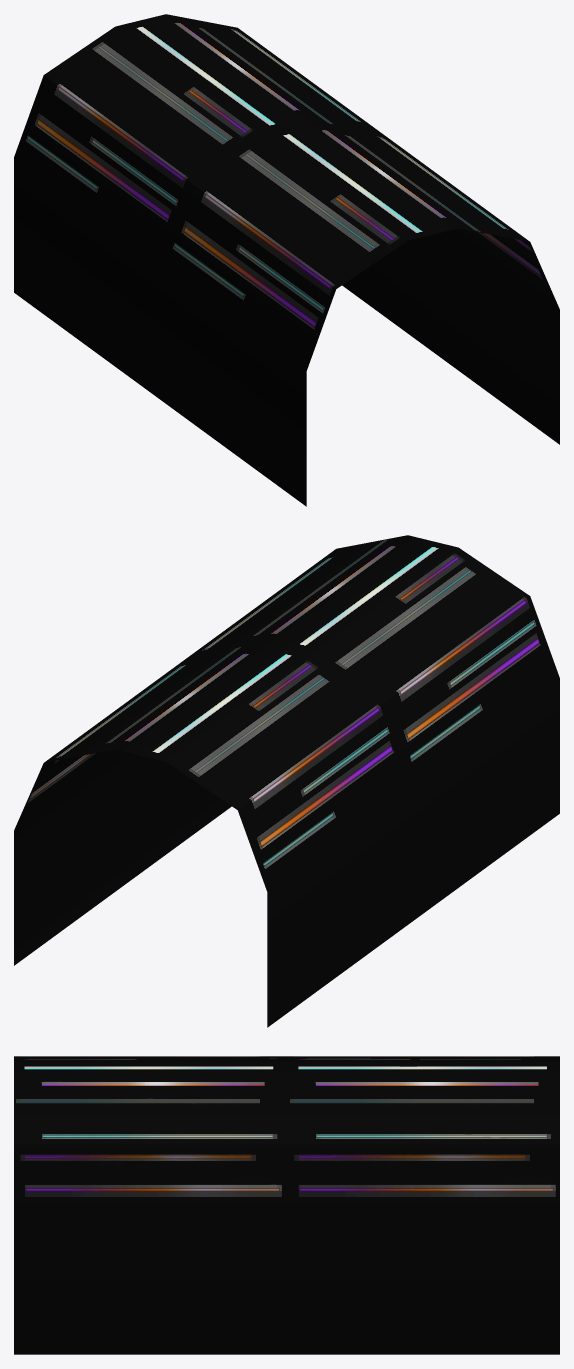
File: pm-decoration-02.glb
3 renders of one model, top to bottom at view 1: azimuth 30°, elevation 25°; view 2: azimuth 150°, elevation 25°; view 3: azimuth 270°, elevation 25°, orthographic. The views are drawn at different scales.
Visible parts, largest first — view 1: Decoration02_Art; view 2: Decoration02_Art; view 3: Decoration02_Art.
Part boxes in pixels (x1,y1,x2,y2): Decoration02_Art: (14,14,559,506); Decoration02_Art: (14,535,559,1027); Decoration02_Art: (14,1056,559,1354).
Size of the model in its own units: 5 by 4.55 by 10.
1 material, 1 textured.
